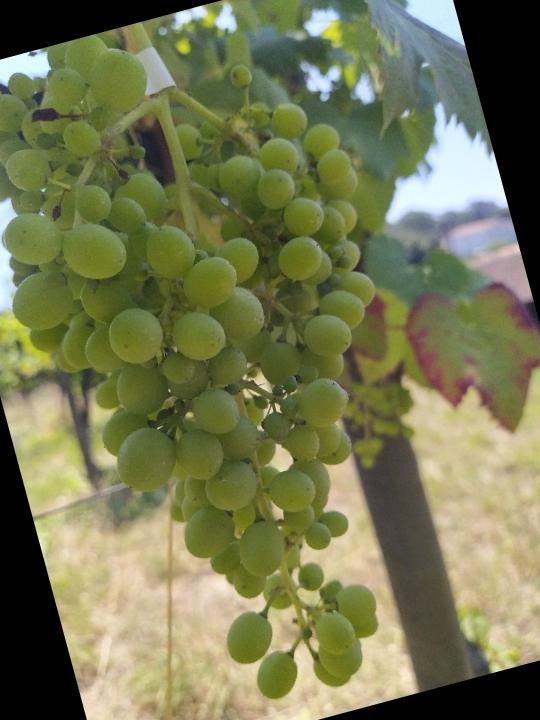grape: (0, 0, 487, 720)
